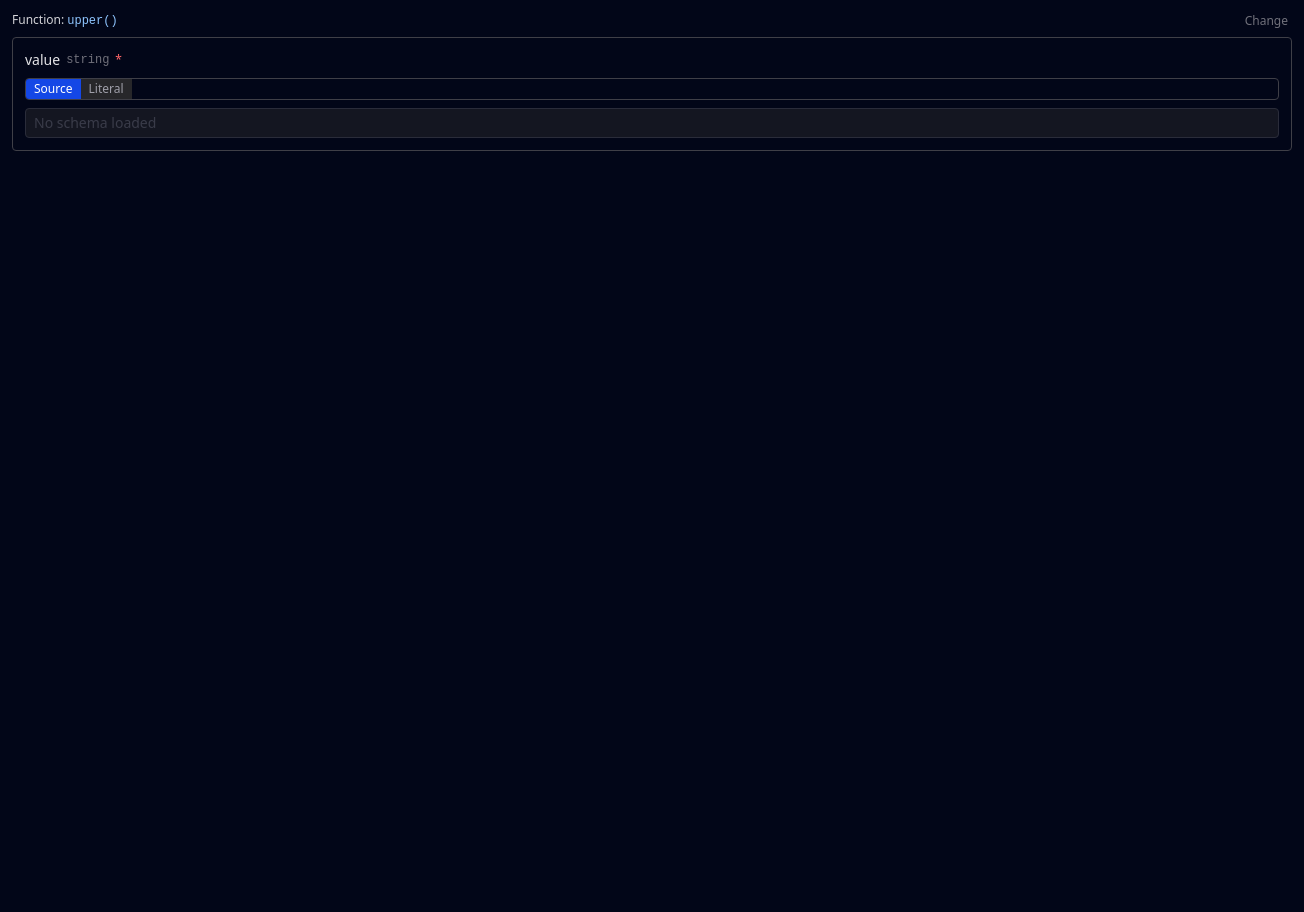
Test case: NestedFunctionBuilder › shows TransformPicker again after clearing
Click the button with aria-label "change nested function" at (1266, 20), box x1=1241 y1=12 x2=1292 y2=28
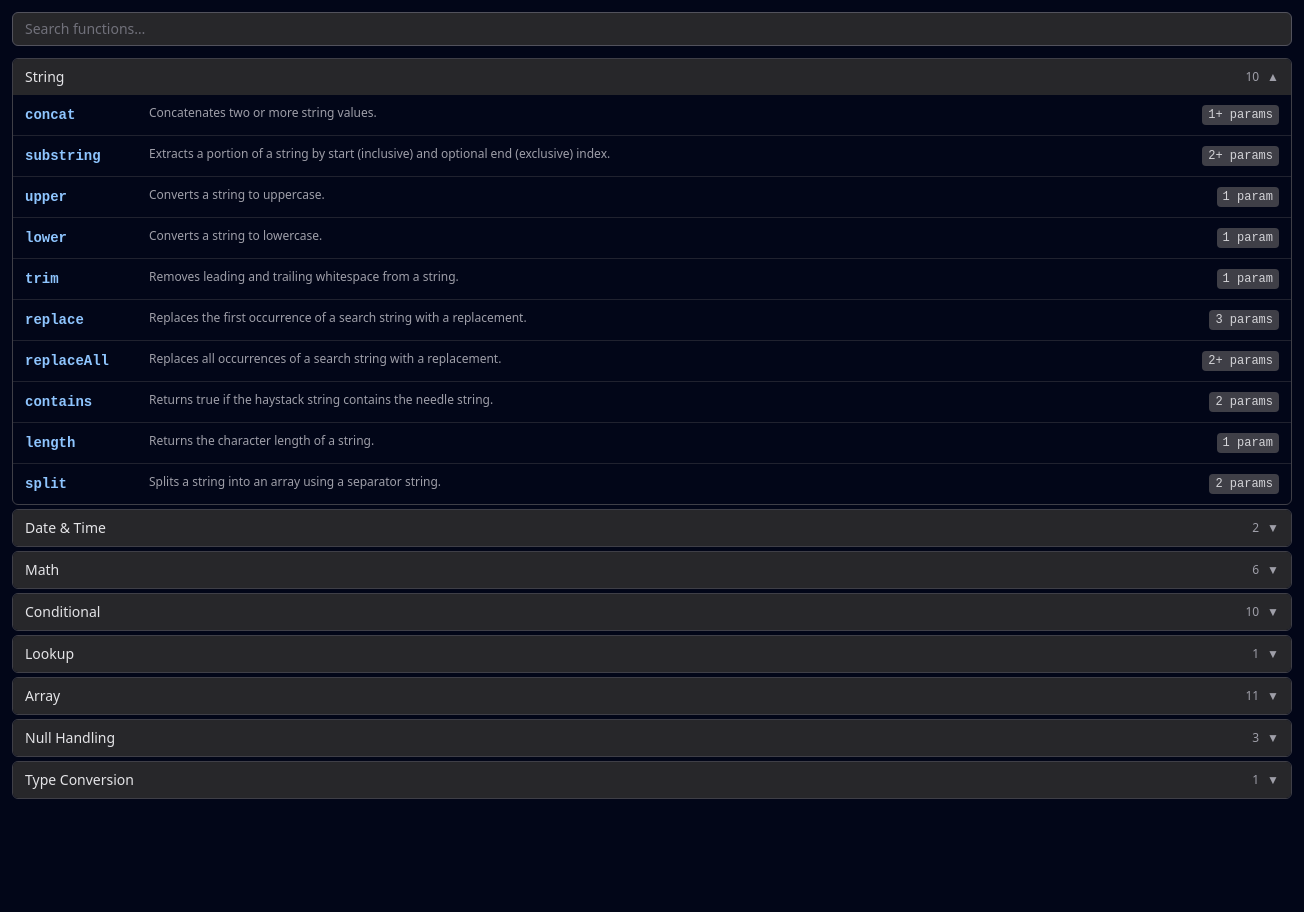
Now the field with placeholder "Search functions…" is shown, box x1=12 y1=12 x2=1292 y2=46
